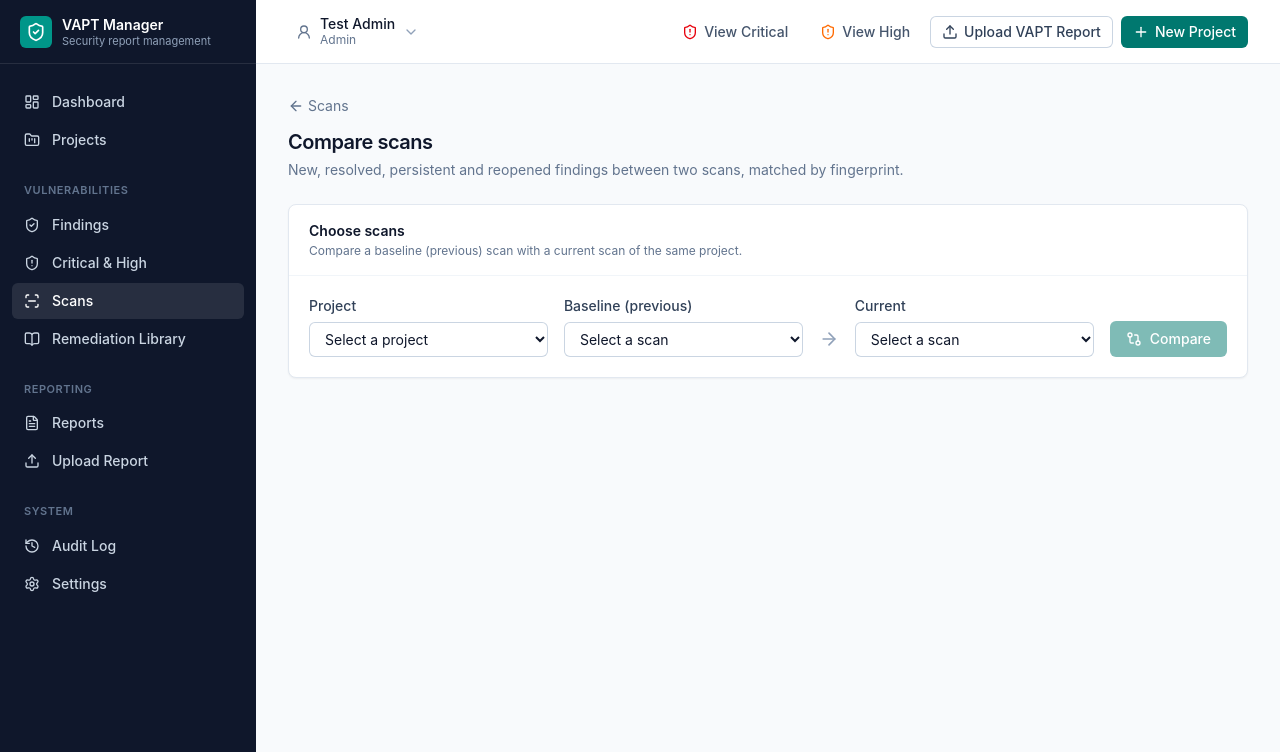
Test case: Comparison view › defaults the picker to the two latest completed scans of a project
Select "Customer Portal" in the dropdown labelled "Project" at (428, 340), box [309,322,548,357]
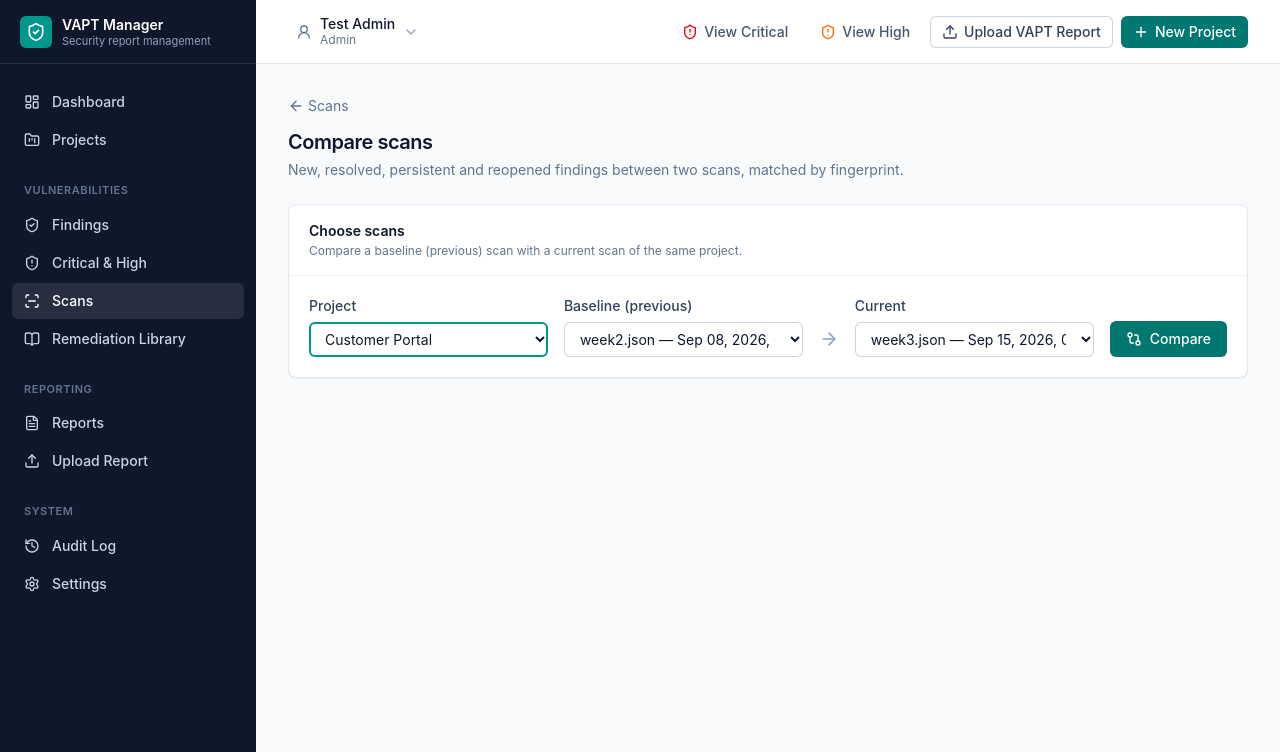
Expected: the dropdown labelled "Current" shows "week3.json — Sep 15, 2026, 09:00 AM", [855,322,1094,357]
Expected: the dropdown labelled "Baseline (previous)" shows "week2.json — Sep 08, 2026, 09:00 AM", [564,322,803,357]
Click the button "Compare" at (1168, 339), box [1110,321,1227,357]
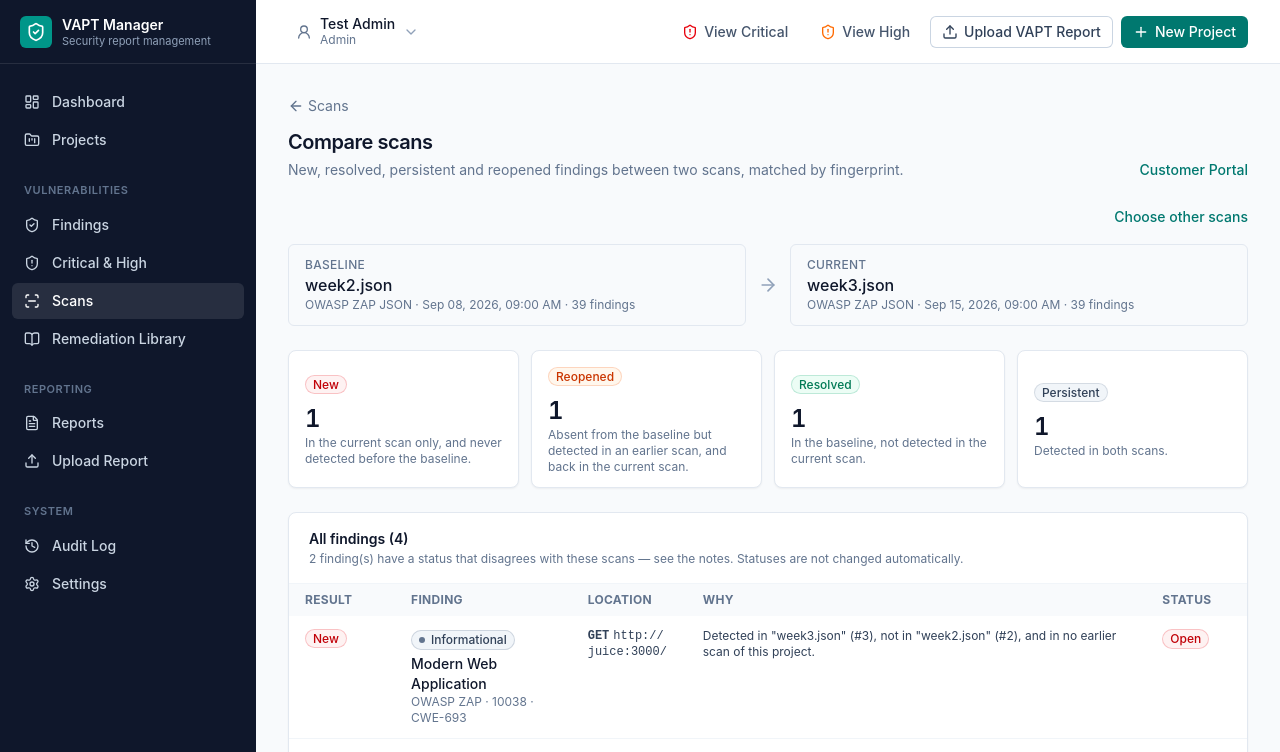
Expected: the text with test id "count-New" is shown, [305,404,320,433]
